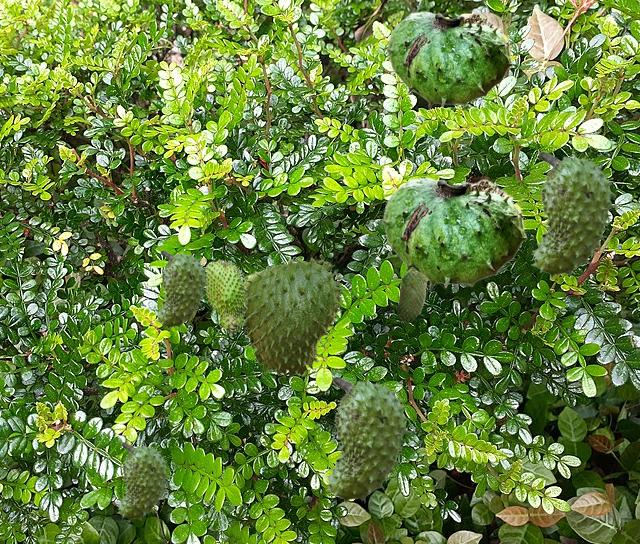guyabano: (381, 177, 526, 291), (243, 256, 345, 379), (386, 11, 512, 110), (530, 151, 618, 279), (324, 376, 412, 504), (116, 442, 170, 521), (155, 250, 209, 329), (204, 259, 247, 333), (396, 270, 426, 322)
